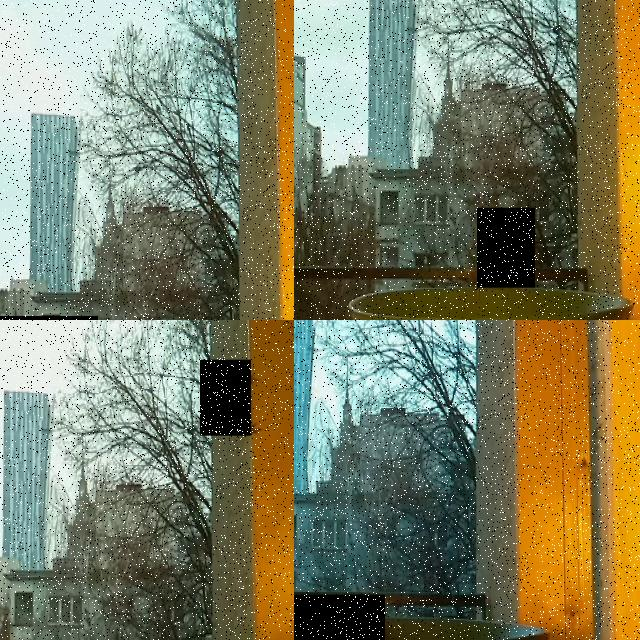Bogatka: (477, 208, 535, 288), (200, 360, 251, 436)
Modraszka: (294, 594, 385, 640)
